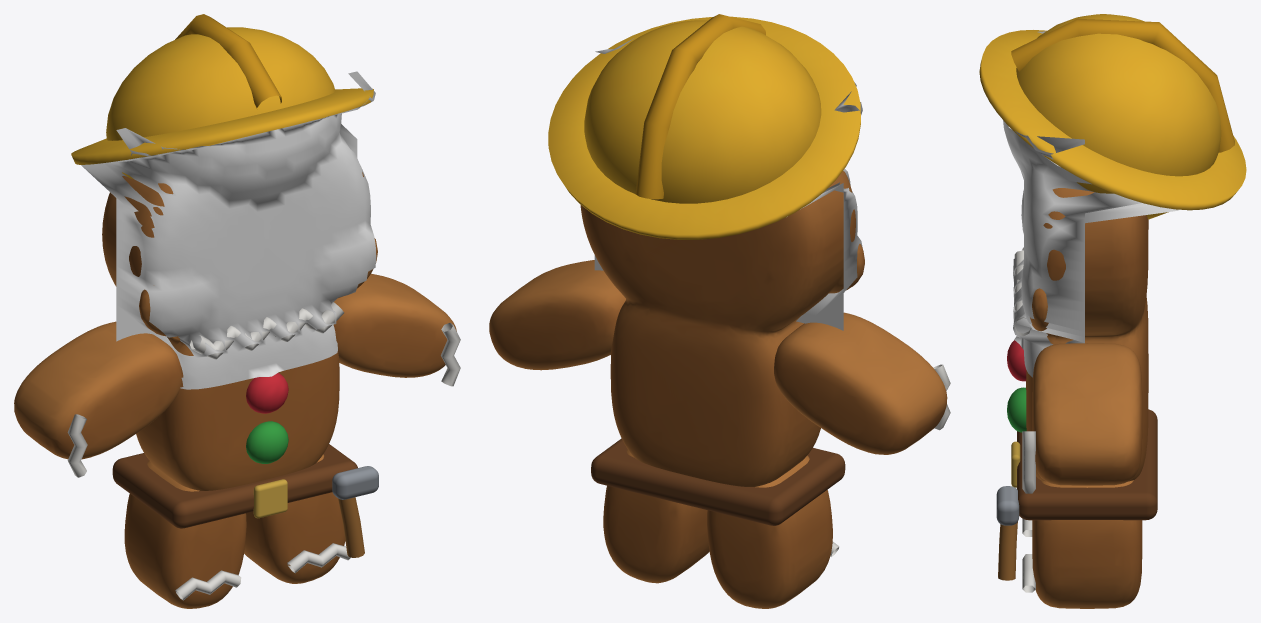
Rendered from folk2_ginger.glb.
3 views of the same model, side by side, from view 1: azimuth 30°, elevation 25°; view 2: azimuth 150°, elevation 25°; view 3: azimuth 270°, elevation 25° (orthographic). The views are drawn at different scales.
Visible parts, largest first — view 1: ginger_body, ginger_face, ginger_arm_l, ginger_arm_r, ginger_leg_l, ginger_leg_r; view 2: ginger_body, ginger_arm_l, ginger_arm_r, ginger_leg_l, ginger_leg_r, ginger_face; view 3: ginger_body, ginger_arm_r, ginger_face, ginger_leg_r.
Part boxes in pixels (x1,y1,x2,y2): ginger_body: [71, 14, 378, 557]; ginger_face: [81, 71, 376, 389]; ginger_arm_l: [14, 321, 181, 477]; ginger_arm_r: [333, 273, 460, 386]; ginger_leg_l: [124, 460, 246, 608]; ginger_leg_r: [244, 454, 350, 583]; ginger_body: [548, 14, 864, 525]; ginger_arm_l: [774, 312, 950, 454]; ginger_arm_r: [489, 260, 625, 370]; ginger_leg_l: [707, 455, 839, 608]; ginger_leg_r: [603, 449, 709, 583]; ginger_face: [594, 38, 862, 330]; ginger_body: [979, 14, 1246, 580]; ginger_arm_r: [1022, 343, 1142, 493]; ginger_face: [1003, 31, 1178, 377]; ginger_leg_r: [1022, 480, 1142, 608].
Bounding box in the file's own units: 1.06 × 1.35 × 0.5848.
